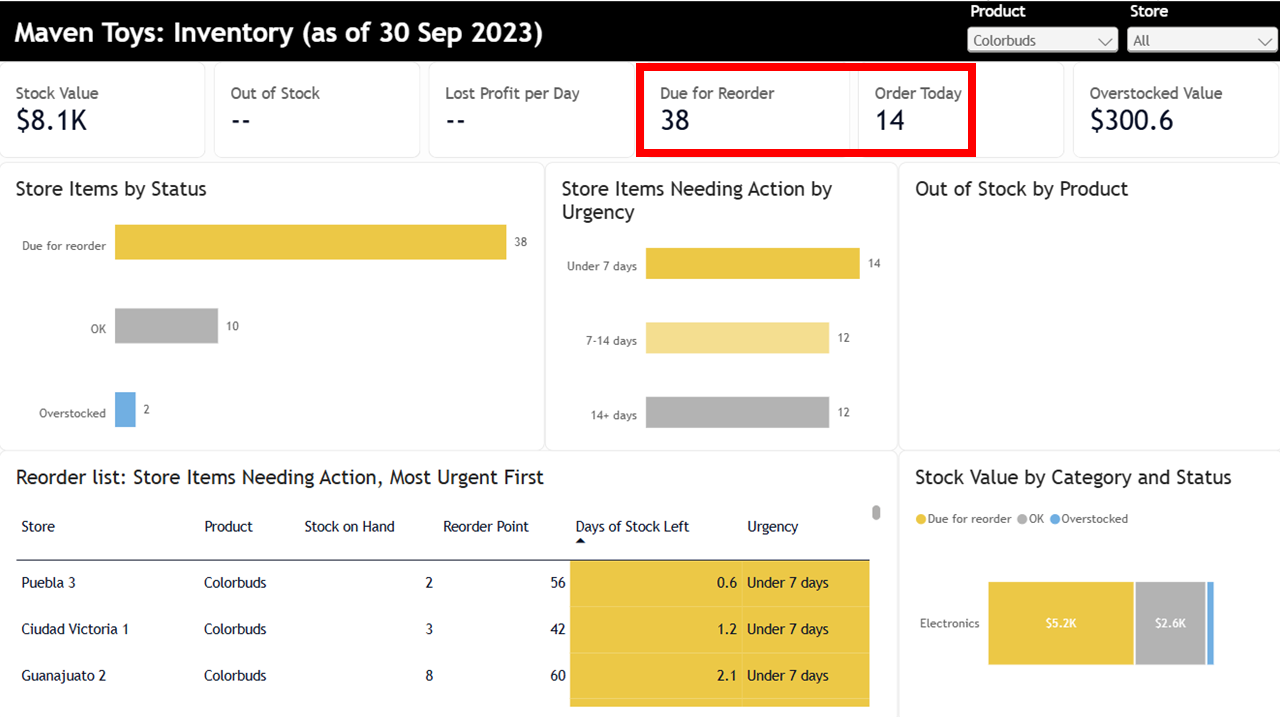

This screenshot's page, from the dashboard's own definition file:
{"tool":"powerbi","page":{"name":"Inventory","canvas":[1280,720],"ordinal":2},"visuals":[{"type":"shape","box":[0,0,1280,60],"z":0,"group":"g1"},{"type":"cardVisual","fields":{"Data":["_measures.Stock Value at Cost","_measures.Pairs Out of Stock","_measures.Lost Profit per Day","_measures.Pairs Reorder Now","_measures.Pairs Order Today","_measures.Overstocked Value"]},"box":[0,60,1280,96],"z":0},{"type":"textbox","box":[16,16,624,32],"z":1000,"group":"g1"},{"type":"clusteredBarChart","title":"Store Items by Status","fields":{"Category":["restock_status.Status Label"],"Y":["CountNonNull(restock_status.Store_ID)"]},"box":[0,160,544,288],"z":1000},{"type":"slicer","fields":{"Values":["products.Product_Name"]},"box":[960,0,160,64],"z":2000,"group":"g1"},{"type":"clusteredBarChart","title":"Out of Stock by Product","fields":{"Category":["products.Product_Name"],"Y":["_measures.Pairs Out of Stock"]},"box":[896,160,384,288],"z":2000},{"type":"slicer","fields":{"Values":["stores.Store_Name"]},"box":[1120,0,160,64],"z":3000,"group":"g1"},{"type":"tableEx","title":"Reorder list: Store Items Needing Action, Most Urgent First","fields":{"Values":["stores.Store_Name","products.Product_Name","Sum(restock_status.Stock_On_Hand)","Sum(restock_status.reorder_point)","Sum(restock_status.days_of_stock_left)","restock_status.Urgency without Prefixes"]},"box":[0,448,896,272],"z":3000},{"type":"barChart","title":"Stock Value by Category and Status","fields":{"Category":["products.Product_Category"],"Series":["restock_status.Status Label"],"Y":["_measures.Stock Value at Cost"]},"box":[896,448,384,272],"z":4000},{"type":"clusteredBarChart","title":"Store Items Needing Action by Urgency","fields":{"Category":["restock_status.Urgency without Prefixes"],"Y":["_measures.Pairs Out of Stock & Reorder Now"]},"box":[544,160,352,288],"z":5000},{"type":"group","id":"g1","title":"Group 1","box":[0,0,1280,64],"z":6000}]}

Visuals, with their boxes in screenshot pixels (x1, y1, x2, y2), scaled from the page's 1280x720 canvas onto the 1280x720 screenshot:
shape: 0, 0, 1279, 60
cardVisual - _measures.Stock Value at Cost x _measures.Pairs Out of Stock: 0, 60, 1279, 156
textbox: 16, 16, 640, 48
"Store Items by Status" clusteredBarChart: 0, 160, 544, 448
slicer - products.Product_Name: 960, 0, 1120, 64
"Out of Stock by Product" clusteredBarChart: 896, 160, 1279, 448
slicer - stores.Store_Name: 1120, 0, 1279, 64
"Reorder list: Store Items Needing Action, Most Urgent First" tableEx: 0, 448, 896, 719
"Stock Value by Category and Status" barChart: 896, 448, 1279, 719
"Store Items Needing Action by Urgency" clusteredBarChart: 544, 160, 896, 448
"Group 1" group: 0, 0, 1279, 64
